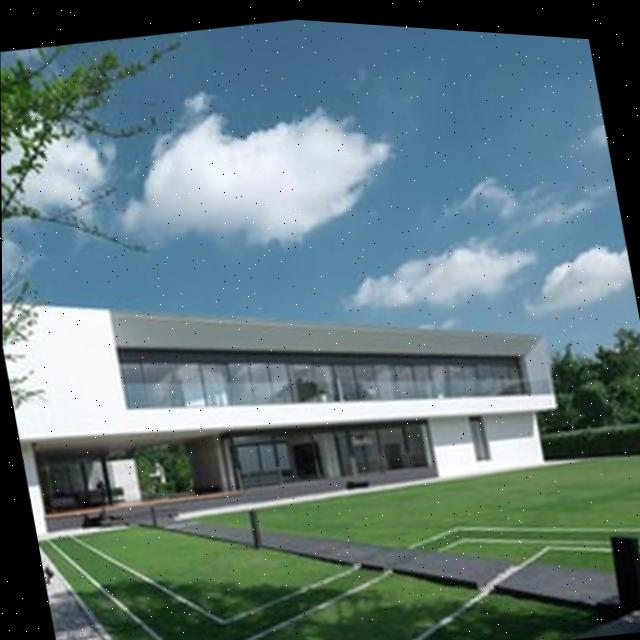building: (2, 203, 571, 561)
